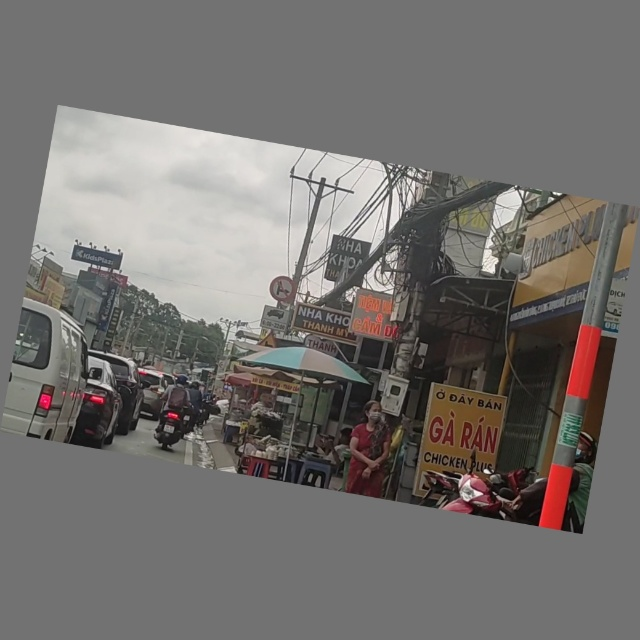P.139: (267, 276, 298, 307)
S.505a*Xe tai: (260, 307, 292, 334)
W.205b: (253, 334, 285, 353)
